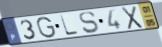3: (20, 19, 37, 41)
4: (107, 9, 123, 31)
G: (36, 16, 57, 39)
L: (59, 14, 81, 37)
S: (78, 11, 100, 35)
X: (120, 5, 145, 31)
